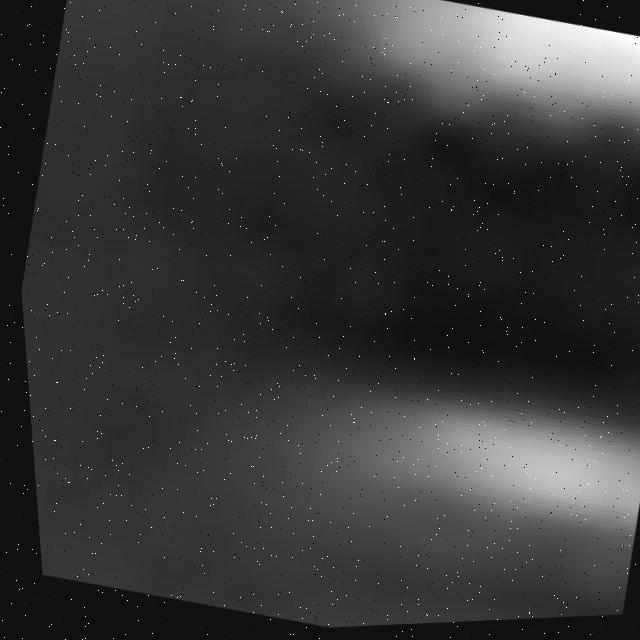person: (261, 346, 640, 574), (278, 1, 640, 154)
